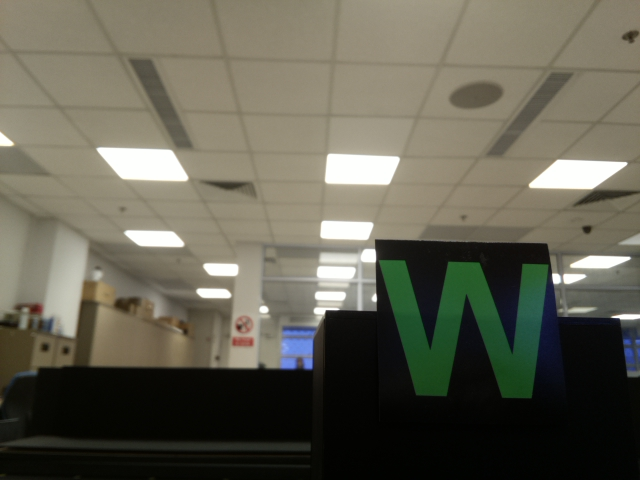w: (377, 252, 551, 409)
